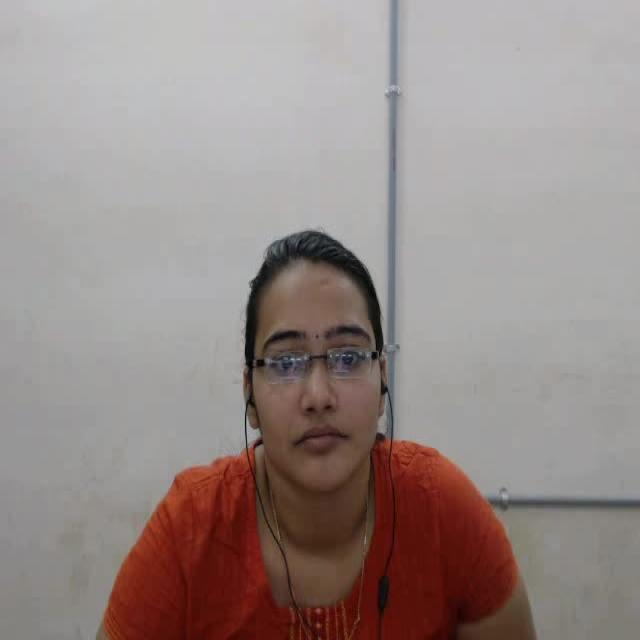Engaged: (206, 202, 436, 556)
